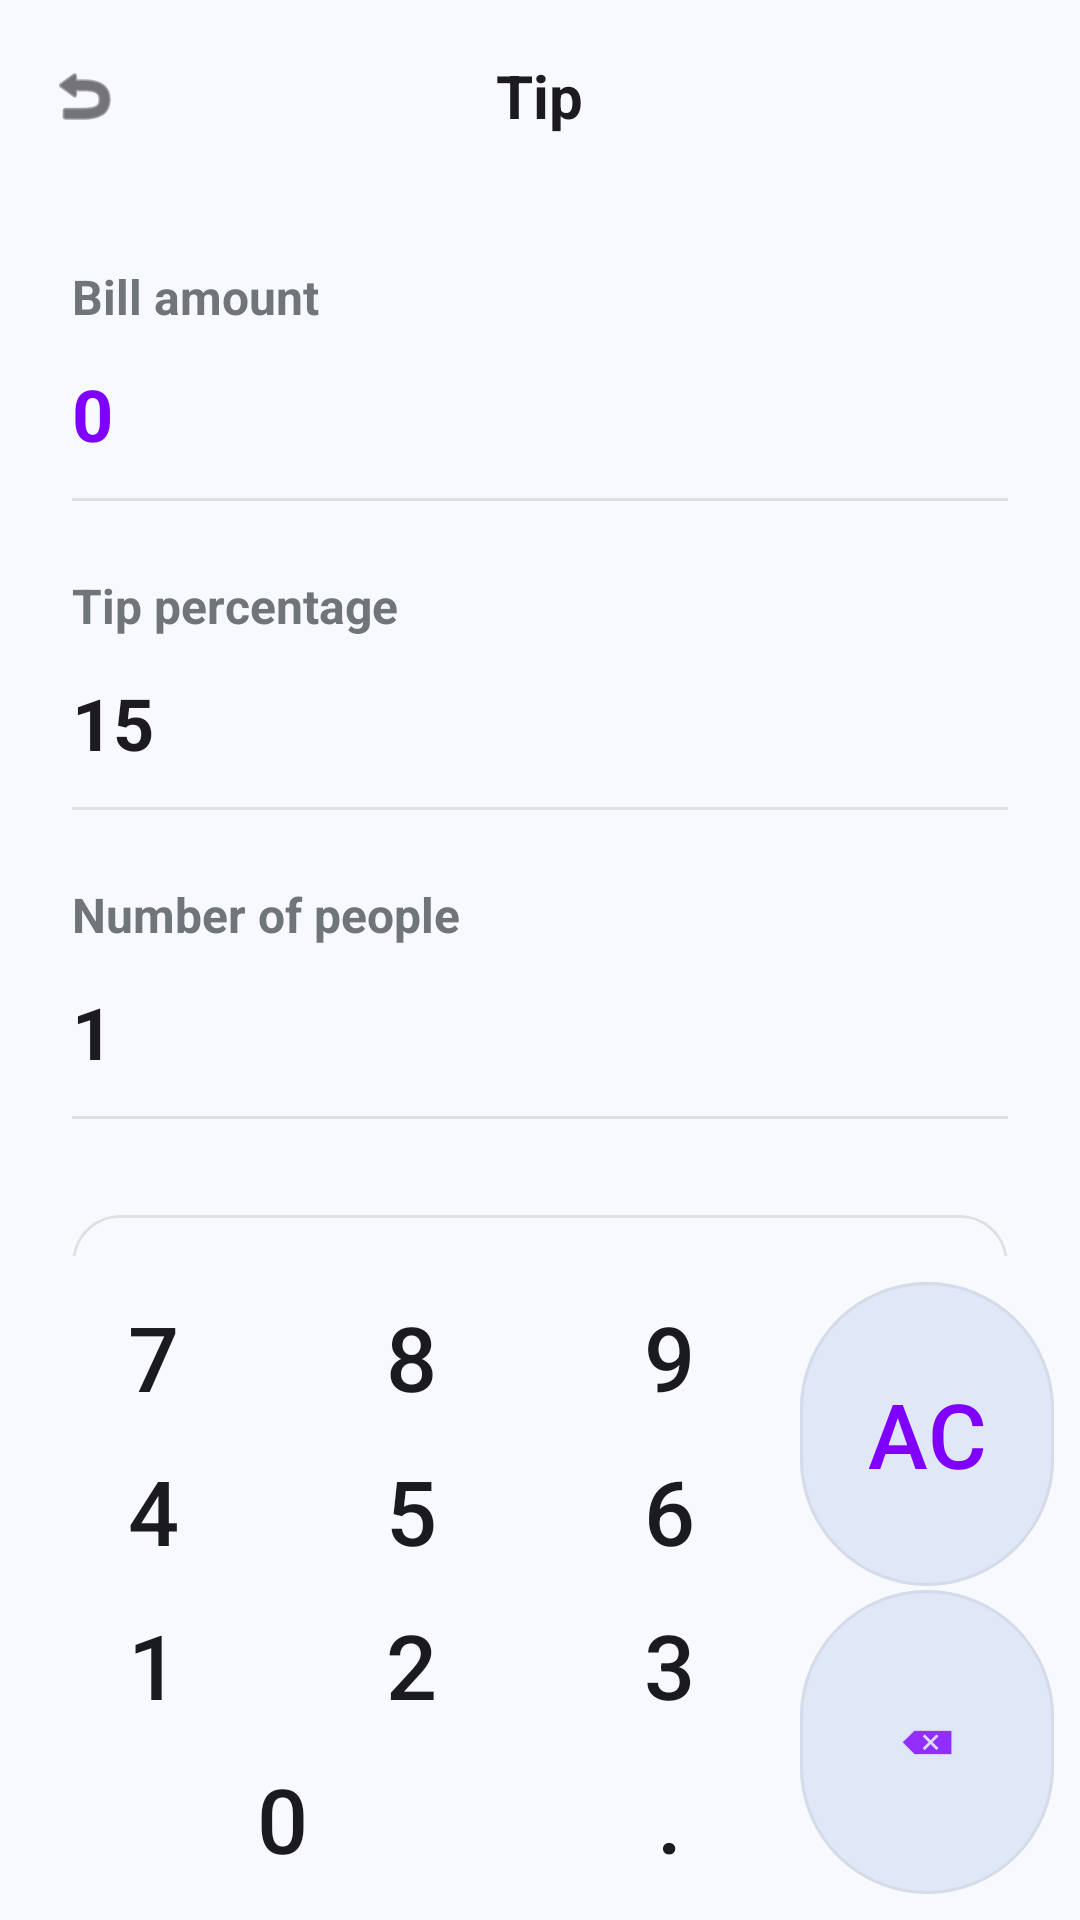

Icons on this 1080×1920 Android screen, each with its box as (x1, y1, x2, y2):
delete: (800, 1590, 1054, 1894)
revert: (59, 73, 111, 120)
